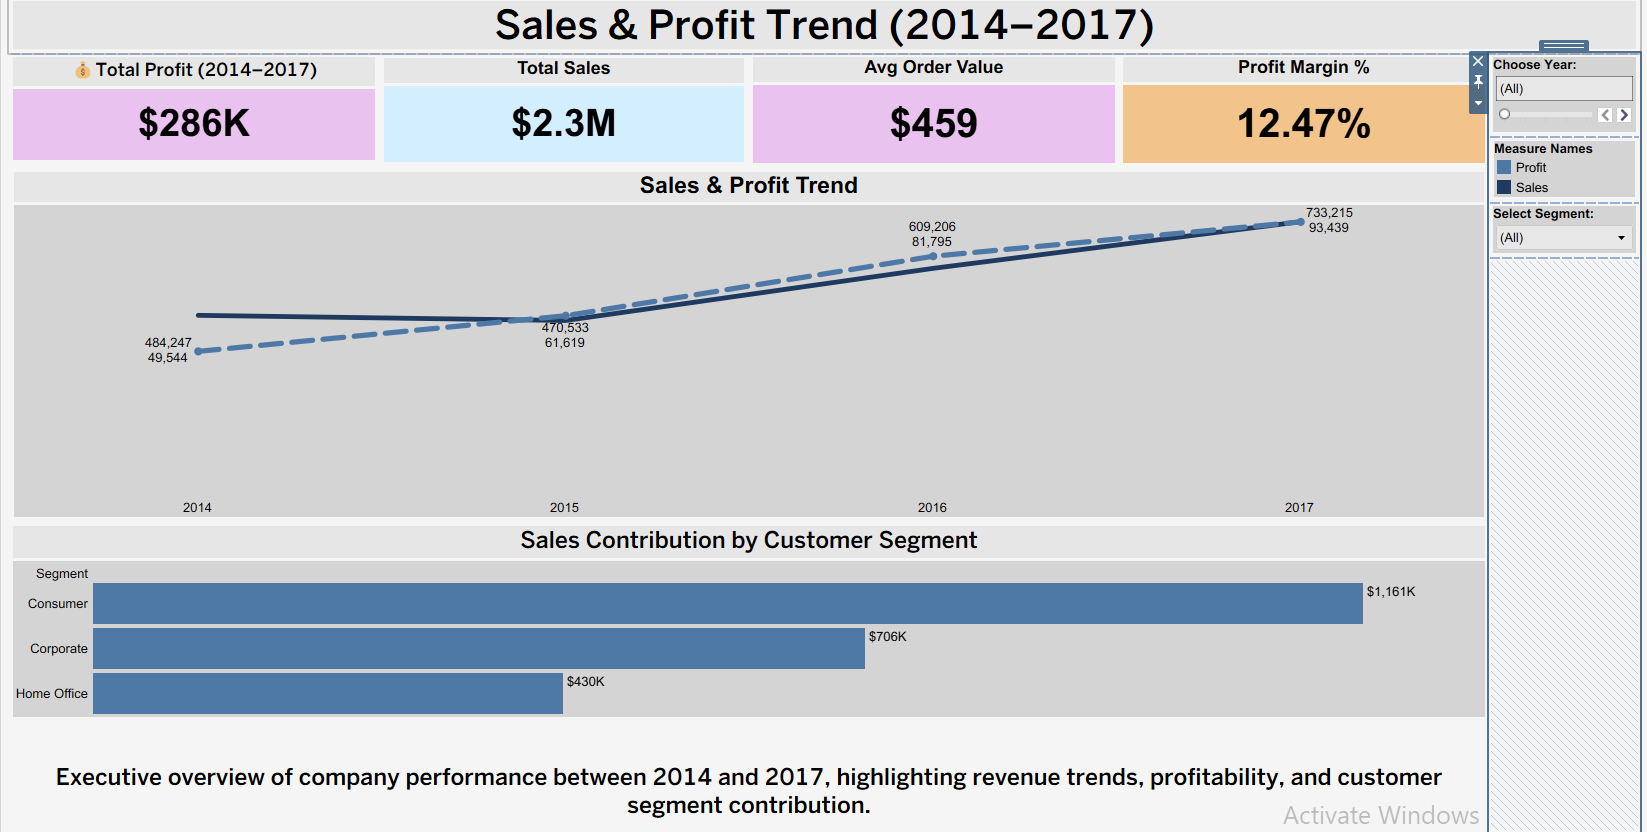

What the dashboard file says about the page in this screenshot:
{"tool":"tableau","page":{"name":"Performance Overview","canvas":[1000,1000],"units":"permille","ordinal":1},"visuals":[{"type":"title","box":[4.8,9.4,990.3,65.8]},{"type":"worksheet","title":"Total profit","mark":"Text","box":[4.8,75.2,224.8,133.9]},{"type":"worksheet","title":"Total Sales","mark":"Text","box":[229.6,75.2,224.8,133.9]},{"type":"worksheet","title":"Avg Order Value","mark":"Text","box":[454.4,75.2,224.8,133.9]},{"type":"worksheet","title":"Profit Margin %","mark":"Text","box":[679.2,75.2,224.8,133.9]},{"type":"filter","title":"Sales&Profit Trend","param":"[federated.18dnule1kxufxl17i8oe21v73u3z].[yr:Order Date:ok]","box":[904,75.2,91.1,97.5]},{"type":"legend","title":"Sales&Profit Trend","param":"[federated.18dnule1kxufxl17i8oe21v73u3z].[:Measure Names]","box":[904,172.7,91.1,77.5]},{"type":"worksheet","title":"Sales&Profit Trend","mark":"Line","rows":["Sales","Profit"],"cols":["Order Date"],"box":[4.8,209.1,899.2,417.6]},{"type":"filter","title":"sales by segment","param":"[federated.18dnule1kxufxl17i8oe21v73u3z].[none:Segment:nk]","box":[904,250.3,91.1,64.6]},{"type":"worksheet","title":"sales by segment","mark":"Bar","rows":["Segment"],"cols":["Sales"],"box":[4.8,626.6,899.2,268.7]},{"type":"text","box":[4.8,895.4,899.2,95.2]}]}

Visuals, with their boxes on the dashboard's canvas, which has no fixed pixel size, in thousandths of its width and height (x1, y1, x2, y2). These are canvas units, not pixel positions in the 1647x832 screenshot, which may show the page scaled, cropped or inside an application window:
title: <bbox>5, 9, 995, 75</bbox>
"Total profit" worksheet (Text marks): <bbox>5, 75, 230, 209</bbox>
"Total Sales" worksheet (Text marks): <bbox>230, 75, 454, 209</bbox>
"Avg Order Value" worksheet (Text marks): <bbox>454, 75, 679, 209</bbox>
"Profit Margin %" worksheet (Text marks): <bbox>679, 75, 904, 209</bbox>
"Sales&Profit Trend" filter: <bbox>904, 75, 995, 173</bbox>
"Sales&Profit Trend" legend: <bbox>904, 173, 995, 250</bbox>
"Sales&Profit Trend" worksheet (Line marks): <bbox>5, 209, 904, 627</bbox>
"sales by segment" filter: <bbox>904, 250, 995, 315</bbox>
"sales by segment" worksheet (Bar marks): <bbox>5, 627, 904, 895</bbox>
text: <bbox>5, 895, 904, 991</bbox>
